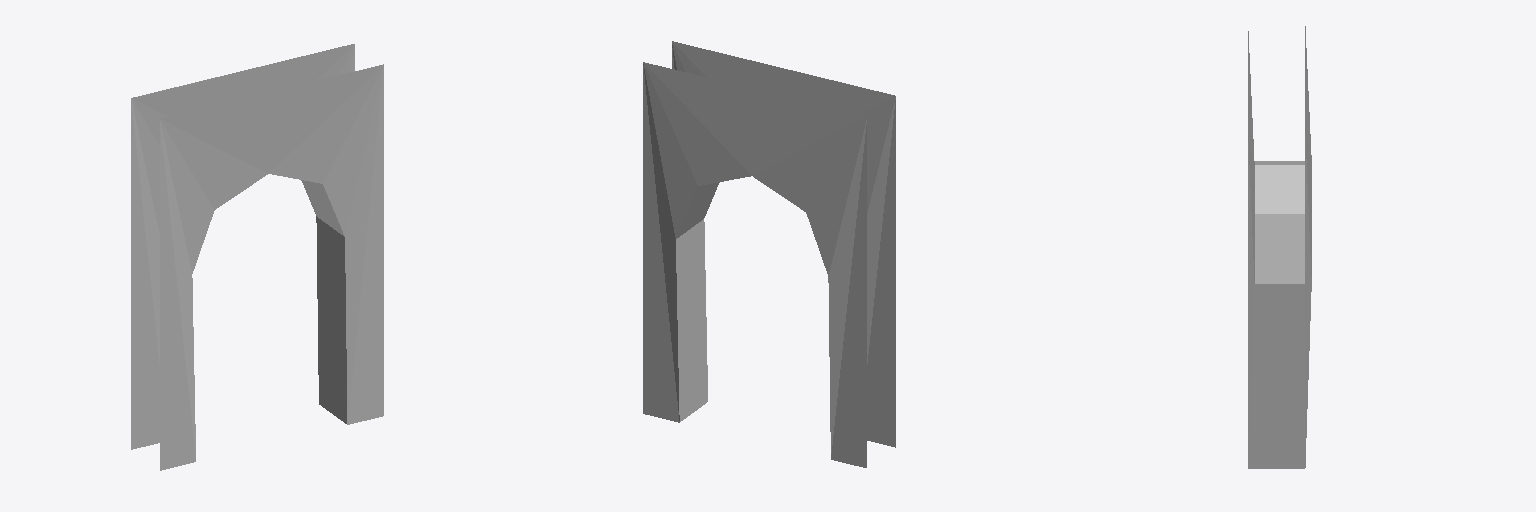
File: Entrance_Arch_Col.obj
3 views of the same model, side by side, from view 1: azimuth 30°, elevation 25°; view 2: azimuth 150°, elevation 25°; view 3: azimuth 270°, elevation 25° (orthographic).
Parts seen in each view (by area): view 1: Entrance_col; view 2: Entrance_col; view 3: Entrance_col.
Boxes of the visible parts, x1,y1,x2,y2 form: Entrance_col: [131, 44, 383, 470]; Entrance_col: [643, 41, 895, 467]; Entrance_col: [1248, 26, 1311, 468].
Bounding box in the file's own units: 20 × 30 × 4.91.